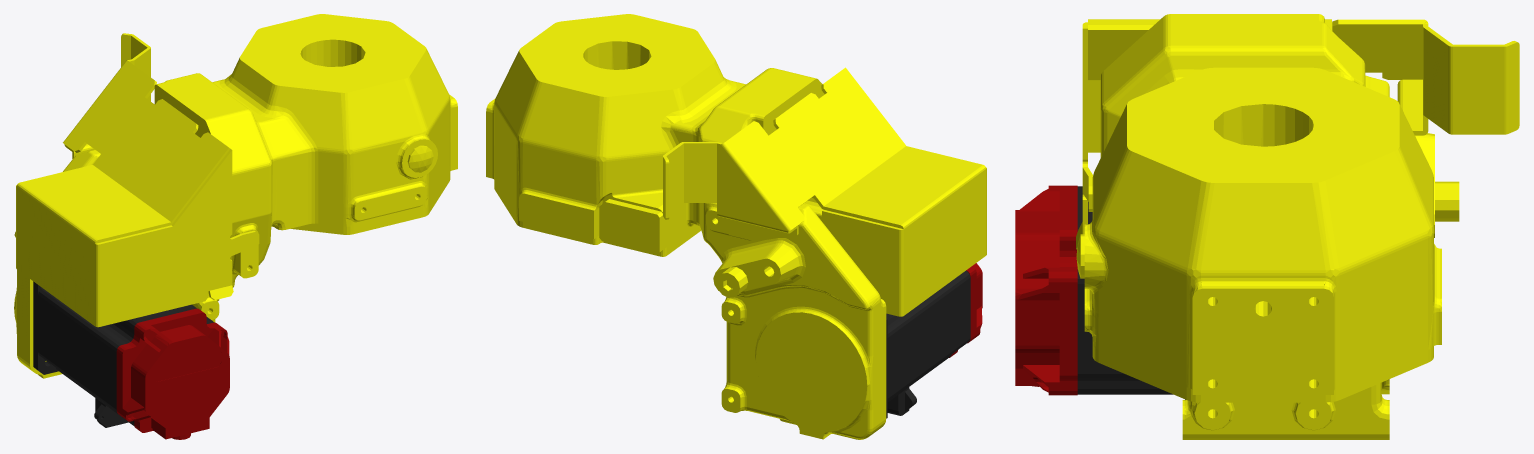
3 renders of one model, left to right at view 1: azimuth 30°, elevation 25°; view 2: azimuth 150°, elevation 25°; view 3: azimuth 270°, elevation 25°, orthographic. The views are drawn at different scales.
Parts seen in each view (by area): view 1: node; view 2: node; view 3: node.
Boxes of the visible parts, x1=… form: node: x1=14, y1=14, x2=457, y2=439; node: x1=486, y1=14, x2=986, y2=439; node: x1=1015, y1=14, x2=1519, y2=439.
Size of the model in its own units: 352 by 250 by 250.
